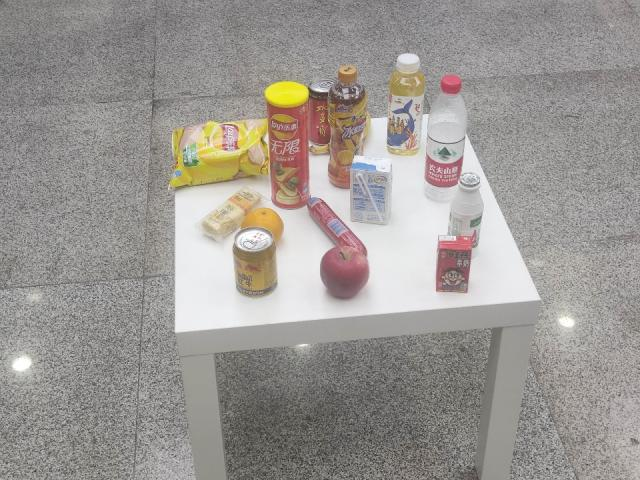Canned_drinks: (231, 226, 281, 296), (305, 74, 341, 148)
bottle: (423, 73, 471, 205), (388, 53, 423, 154)
cylinder: (261, 78, 312, 208)
drink_box: (345, 152, 397, 234), (429, 227, 482, 303)
